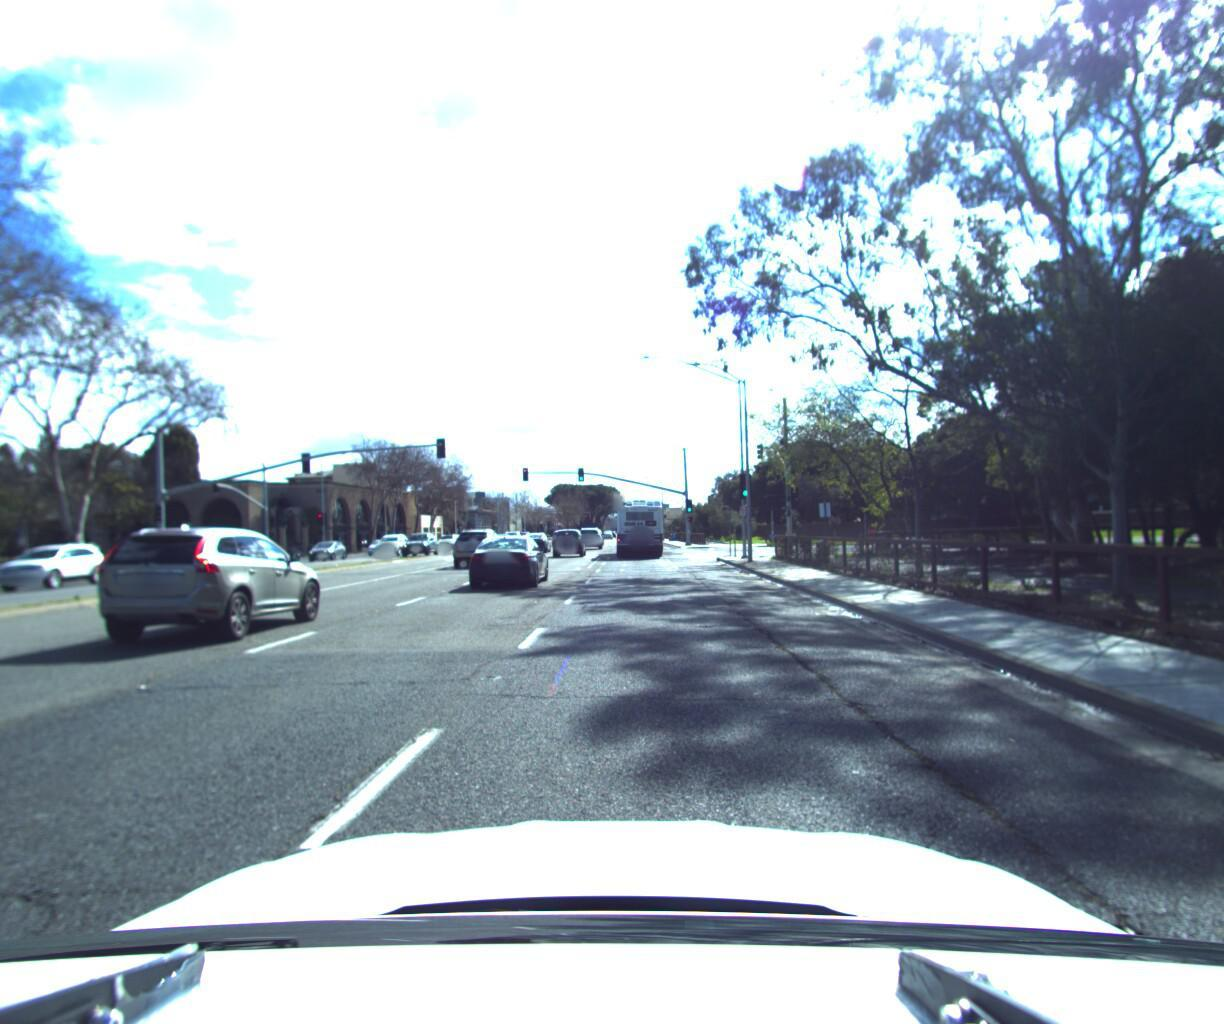bus: (615, 492, 670, 557)
car: (79, 525, 334, 654), (461, 532, 553, 594), (450, 524, 510, 565), (551, 526, 586, 556), (368, 532, 411, 555), (396, 531, 437, 555), (526, 531, 558, 555), (577, 525, 604, 548), (435, 532, 462, 548)
